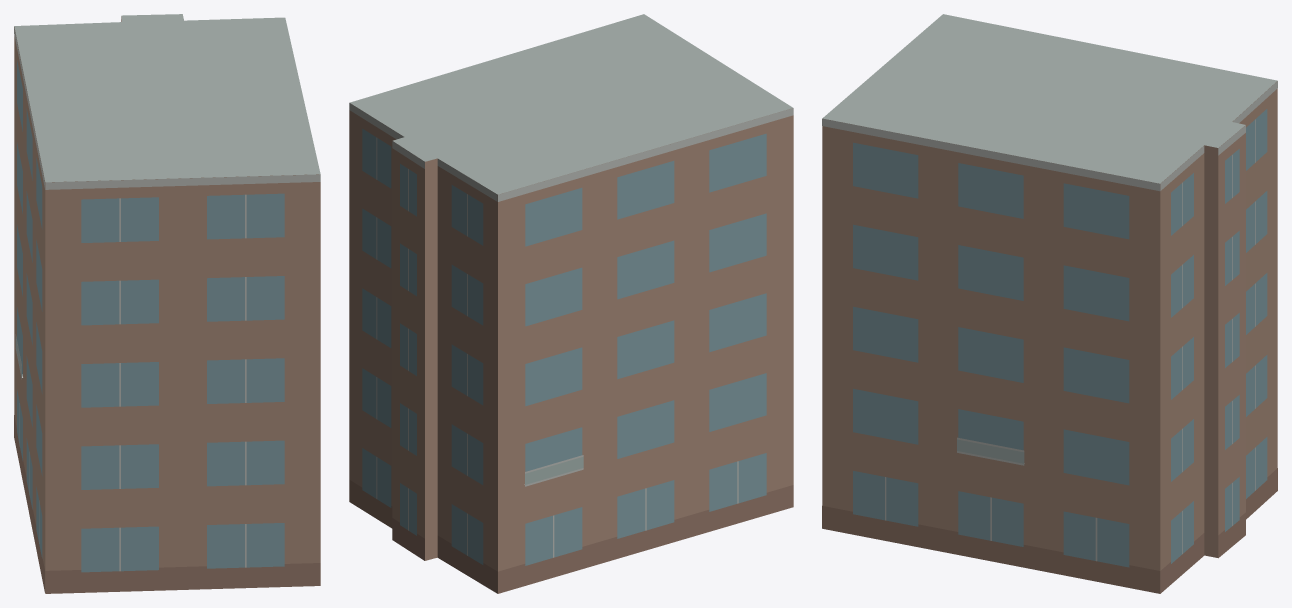
Rendered from survey-upis-32531526.glb.
3 views of the same model, side by side, from view 1: azimuth 30°, elevation 25°; view 2: azimuth 150°, elevation 25°; view 3: azimuth 270°, elevation 25° (orthographic). The views are drawn at different scales.
Parts seen in each view (by area): view 1: survey-upis-32531526.tmp; view 2: survey-upis-32531526.tmp; view 3: survey-upis-32531526.tmp.
Boxes of the visible parts, x1=… form: survey-upis-32531526.tmp: x1=14, y1=14, x2=320, y2=593; survey-upis-32531526.tmp: x1=349, y1=14, x2=793, y2=593; survey-upis-32531526.tmp: x1=822, y1=14, x2=1277, y2=593.
Bounding box in the file's own units: 11.72 × 13.2 × 13.3.
